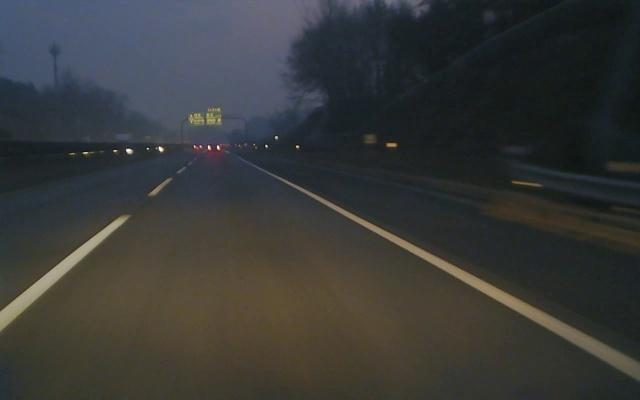lane: (242, 157, 640, 383), (0, 163, 189, 334)
